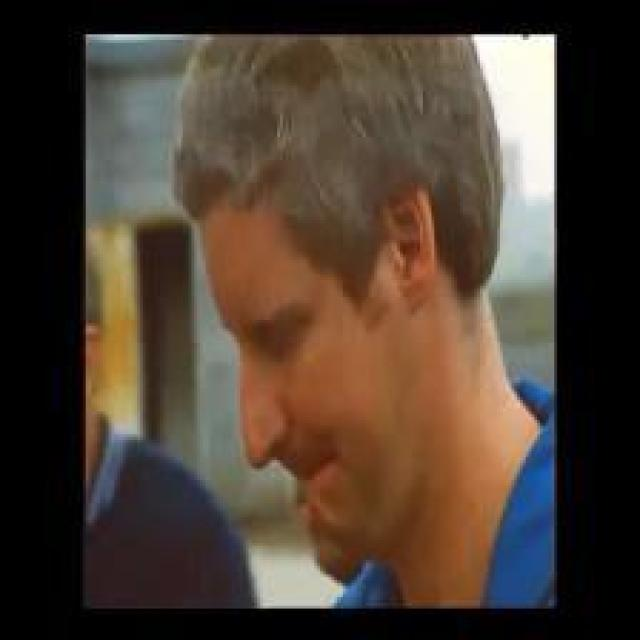other: (97, 190, 176, 427)
